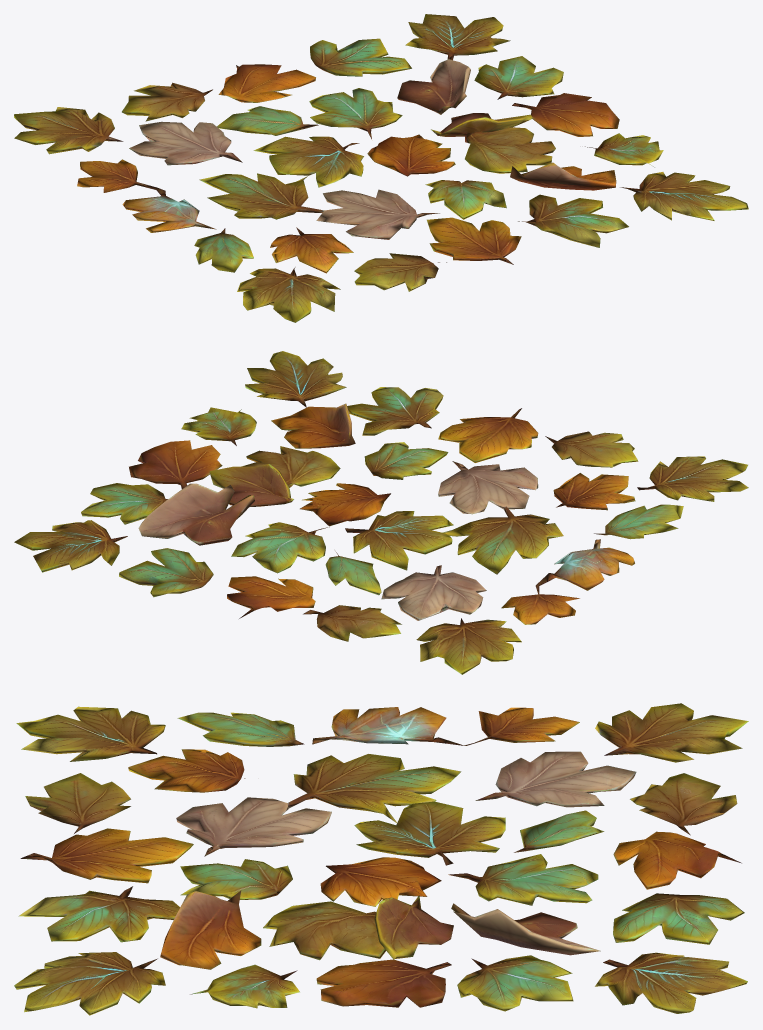
The picture shows the model from 3 angles, top to bottom: view 1: azimuth 30°, elevation 25°; view 2: azimuth 150°, elevation 25°; view 3: azimuth 270°, elevation 25°; orthographic projection. The views are drawn at different scales.
Visible parts, largest first — view 1: Mesh_0; view 2: Mesh_0; view 3: Mesh_0.
Part boxes in pixels (left/top/right/bottom): Mesh_0: left=14, top=14, right=748, bottom=322; Mesh_0: left=14, top=351, right=748, bottom=674; Mesh_0: left=14, top=703, right=748, bottom=1015.
Size of the model in its own units: 1.92 by 0.1241 by 1.93.
Materials: 1 (1 with a texture image).
